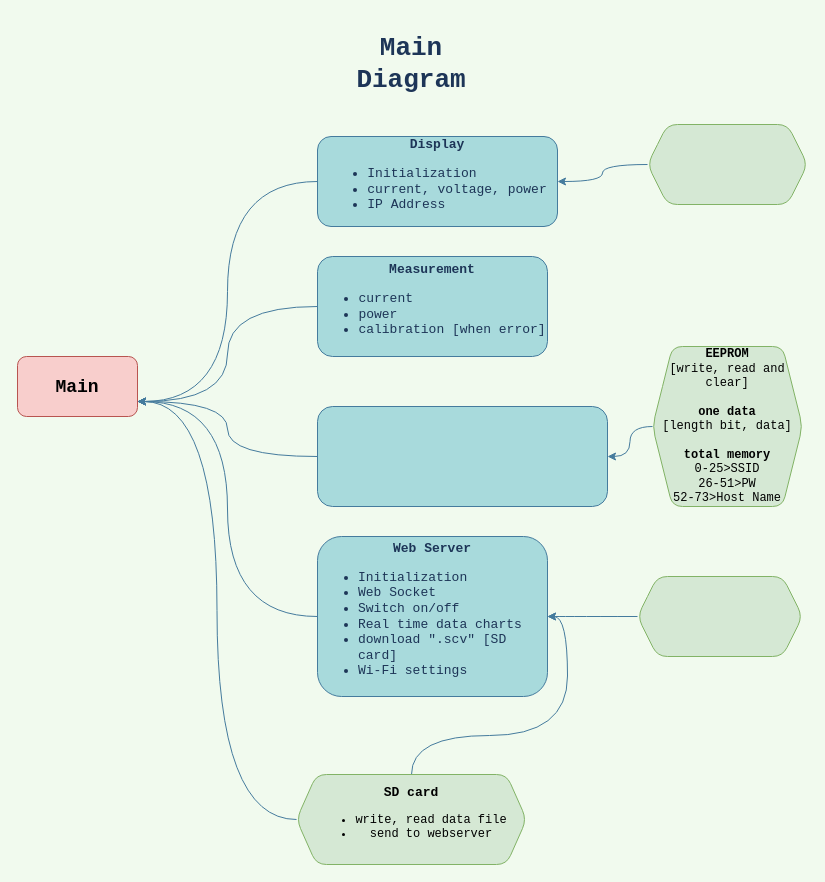
Some shapes in this 825 by 882 pixel diagram are drawn without their labels. The shapes that lost their labels are listed below. From the top down, each one's box as (x1, y1, x2, y2) in pixels, then its label:
(646, 124, 808, 204): Welcome initializing errors [if has] parameters
(316, 406, 608, 506): Wi-Fi settings connect router get credentials server [if not connect to router]
(636, 576, 802, 656): Real time clock [using ntp client]
